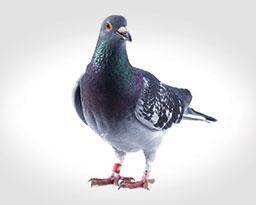Flying Rat: (74, 14, 203, 190)
